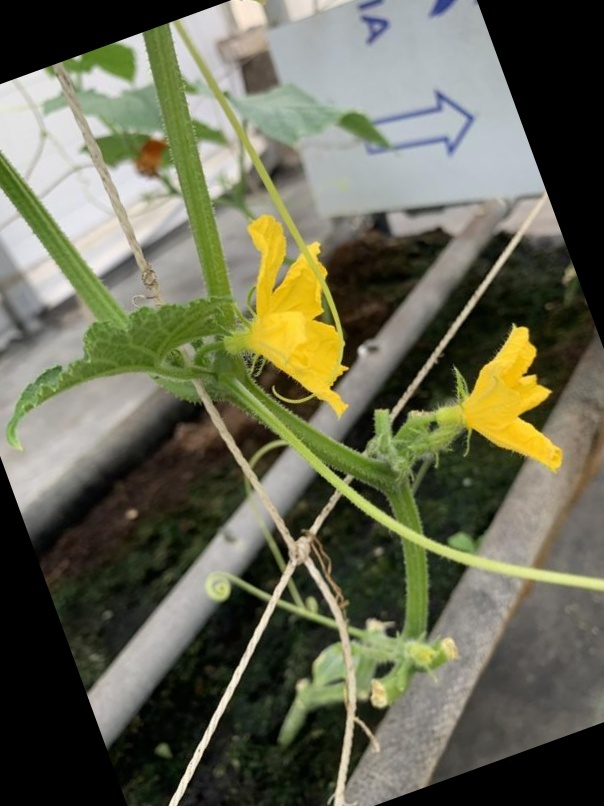flowering: (422, 325, 571, 481), (240, 204, 350, 413)
